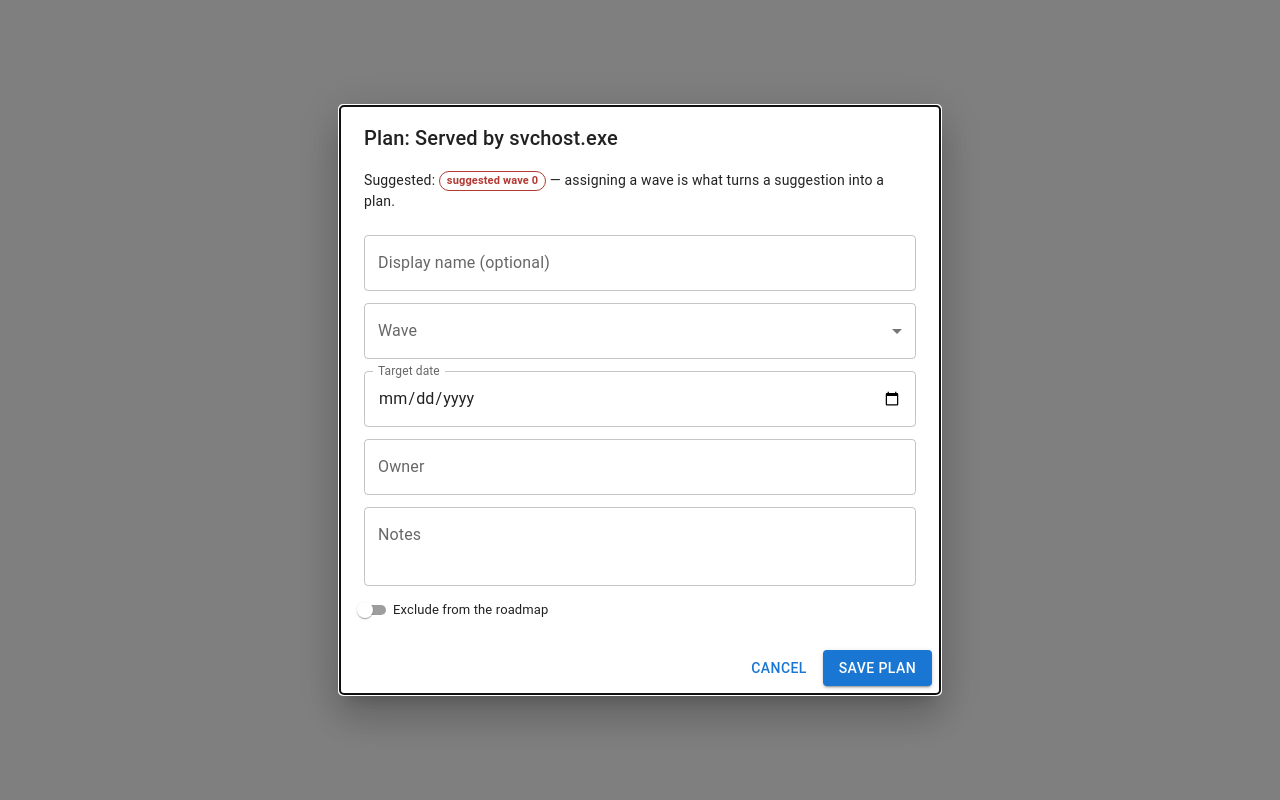
Test: PlanDialog › ⭐ excluir exige motivo: el botón no se habilita sin él
The image size is (1280, 800).
expect the button "Save plan" is enabled: met, box left=823, top=650, right=932, bottom=686
Step 1. Click the switch labelled "Exclude from the roadmap" → (451, 610), box left=353, top=598, right=548, bottom=622
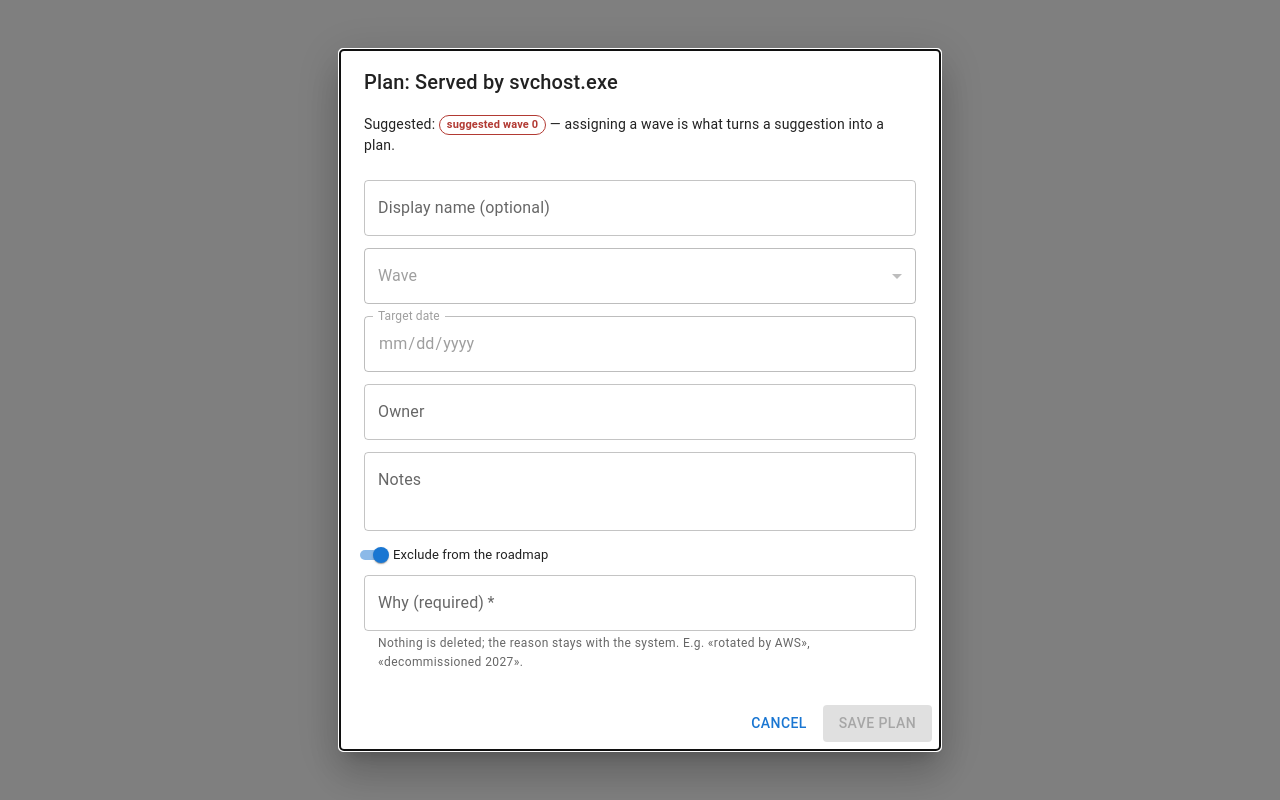
expect the button "Save plan" is disabled: met, box left=823, top=705, right=932, bottom=742
Step 2. Type "rotated by AWS" into the field labelled "Why (required) *" → (640, 602), box left=364, top=574, right=916, bottom=630
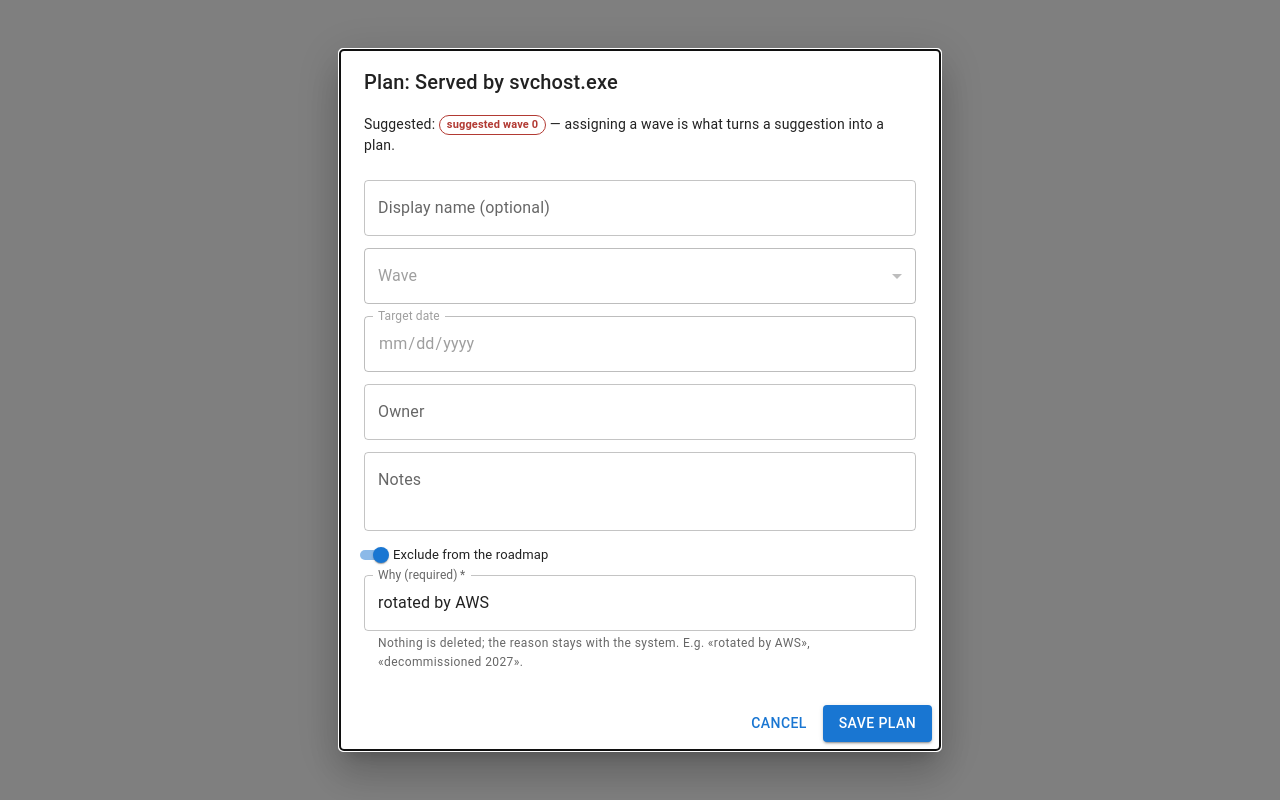
expect the button "Save plan" is enabled: met, box left=823, top=705, right=932, bottom=742
